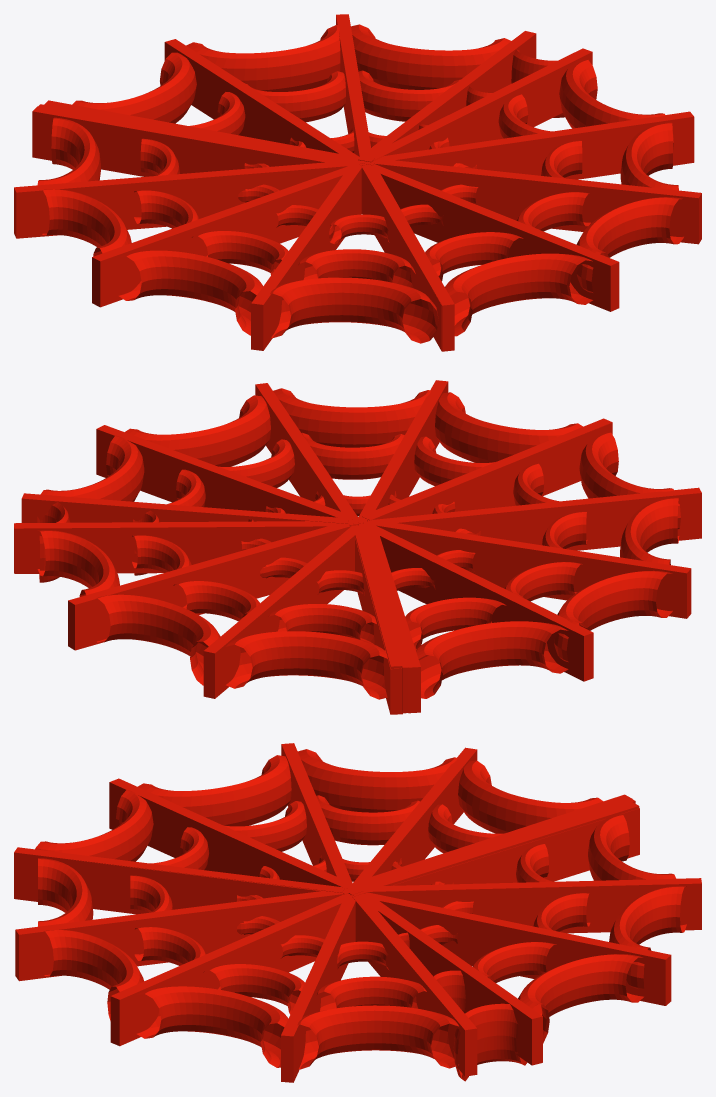
File: pavucina.fbx
3 renders of one model, top to bottom at view 1: azimuth 30°, elevation 25°; view 2: azimuth 150°, elevation 25°; view 3: azimuth 270°, elevation 25°, orthographic.
Visible parts, largest first — view 1: Cube.021; view 2: Cube.021; view 3: Cube.021.
Boxes of the visible parts, x1,y1,x2,y2 form: Cube.021: (14,14,701,351); Cube.021: (14,380,701,714); Cube.021: (14,743,701,1082).
Bounding box in the file's own units: 407 × 37.91 × 403.
